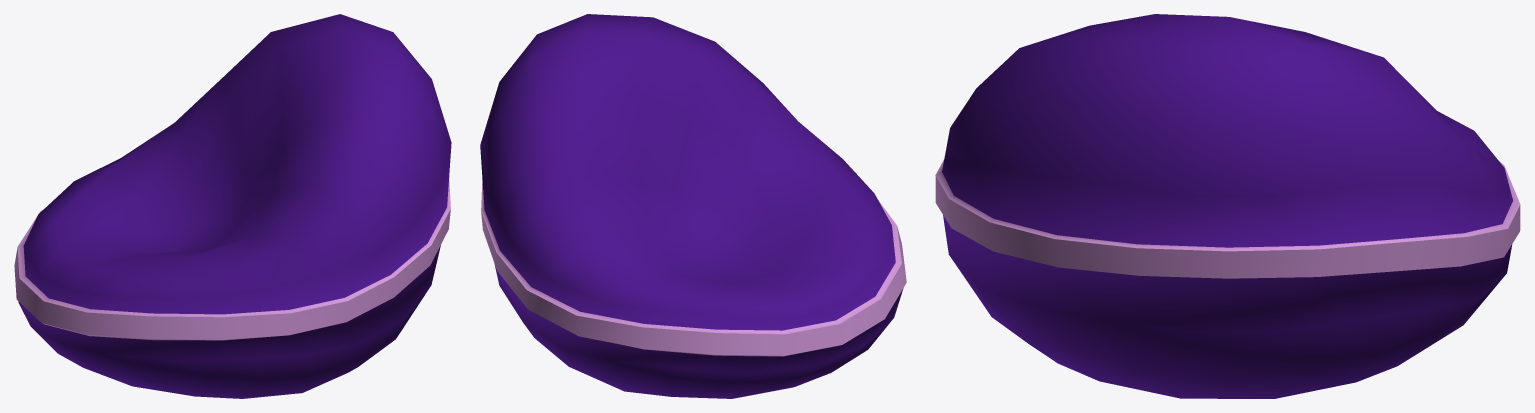
File: Beanbag06.fbx
3 views of the same model, side by side, from view 1: azimuth 30°, elevation 25°; view 2: azimuth 150°, elevation 25°; view 3: azimuth 270°, elevation 25° (orthographic). The views are drawn at different scales.
Visible parts, largest first — view 1: Beanbag06; view 2: Beanbag06; view 3: Beanbag06.
Boxes of the visible parts, bbox=[...] form: Beanbag06: bbox=[14, 14, 451, 398]; Beanbag06: bbox=[480, 14, 906, 398]; Beanbag06: bbox=[935, 14, 1520, 398].
Bounding box in the file's own units: 0.4009 × 0.3852 × 0.2993.
